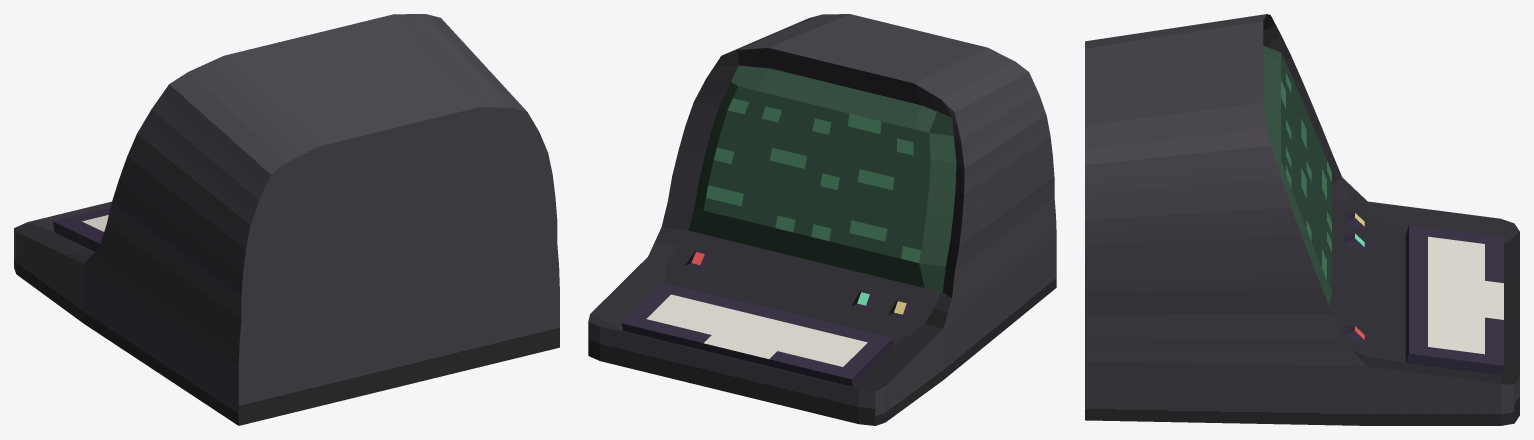
File: retro_terminal.gltf
3 renders of one model, left to right at view 1: azimuth 30°, elevation 25°; view 2: azimuth 150°, elevation 25°; view 3: azimuth 270°, elevation 25°, orthographic. The views are drawn at different scales.
Visible parts, largest first — view 1: cuboid; view 2: cuboid; view 3: cuboid.
Boxes of the visible parts, box(x1,y1,x2,y2) form: cuboid: box(14, 14, 559, 425); cuboid: box(588, 14, 1056, 425); cuboid: box(1085, 14, 1519, 425).
Bounding box in the file's own units: 1.12 × 0.8924 × 1.25.
1 material, 1 textured.
